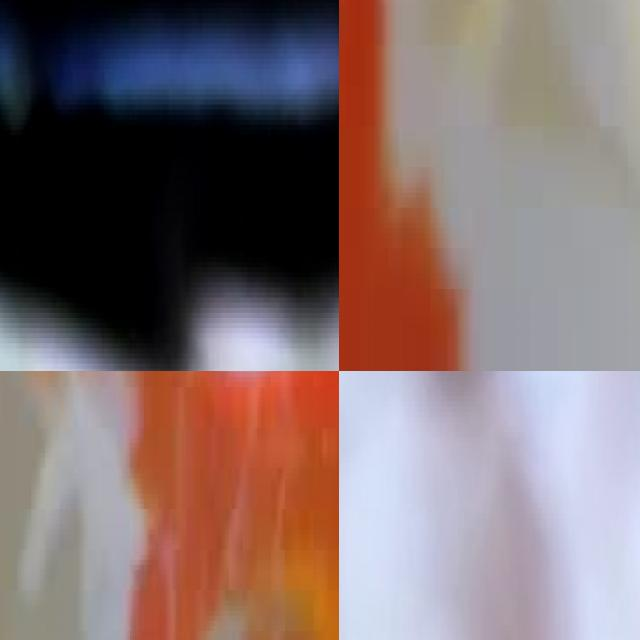fish: (0, 0, 339, 371), (339, 0, 640, 371)
